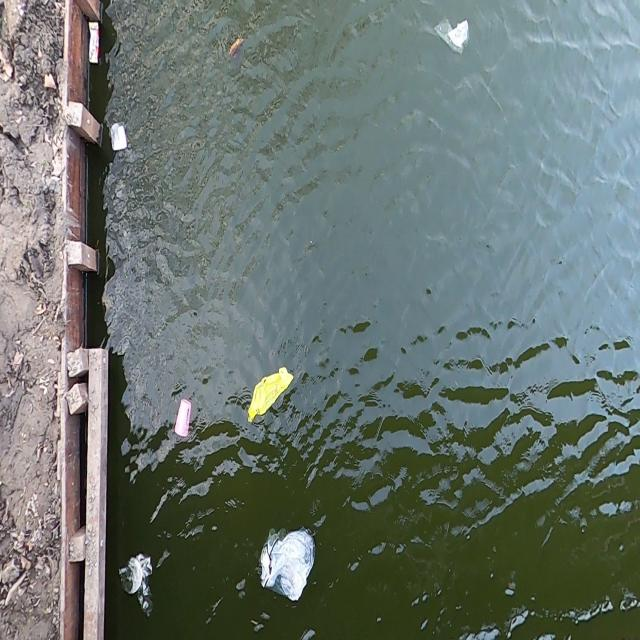Autre plastique: (172, 396, 192, 446), (105, 122, 128, 158), (87, 16, 100, 75)
Sac plastique: (253, 524, 318, 610), (242, 360, 296, 436), (116, 545, 158, 626), (428, 13, 476, 63)
